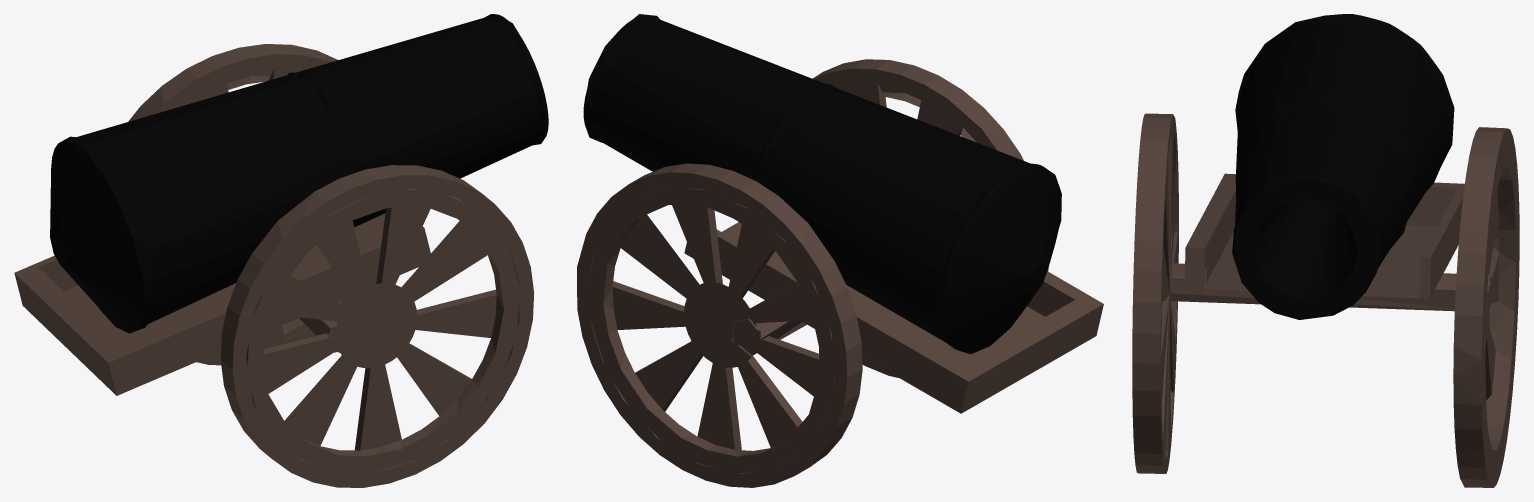
File: Kanone_16.11.2016.fbx
3 views of the same model, side by side, from view 1: azimuth 30°, elevation 25°; view 2: azimuth 150°, elevation 25°; view 3: azimuth 270°, elevation 25° (orthographic). The views are drawn at different scales.
Parts seen in each view (by area): view 1: Kanone, Rad_links, Halter, Rad_rechts, Zwischenstange; view 2: Kanone, Rad_rechts, Halter, Rad_links, Zwischenstange; view 3: Kanone, Rad_rechts, Rad_links, Halter, Zwischenstange.
Boxes of the visible parts, x1,y1,x2,y2 form: Kanone: (50, 14, 548, 333); Rad_links: (220, 165, 534, 487); Halter: (14, 214, 430, 395); Rad_rechts: (128, 44, 385, 365); Zwischenstange: (299, 301, 363, 352); Kanone: (583, 14, 1061, 354); Rad_rechts: (577, 163, 862, 487); Halter: (684, 222, 1103, 413); Rad_links: (812, 59, 1048, 377); Zwischenstange: (732, 318, 806, 356); Kanone: (1232, 14, 1454, 319); Rad_rechts: (1453, 127, 1519, 487); Rad_links: (1132, 113, 1178, 473); Halter: (1184, 173, 1464, 298); Zwischenstange: (1163, 263, 1492, 312).
Bounding box in the file's own units: 51.26 × 38.48 × 35.24.
Materials: 2 (1 with a texture image).
